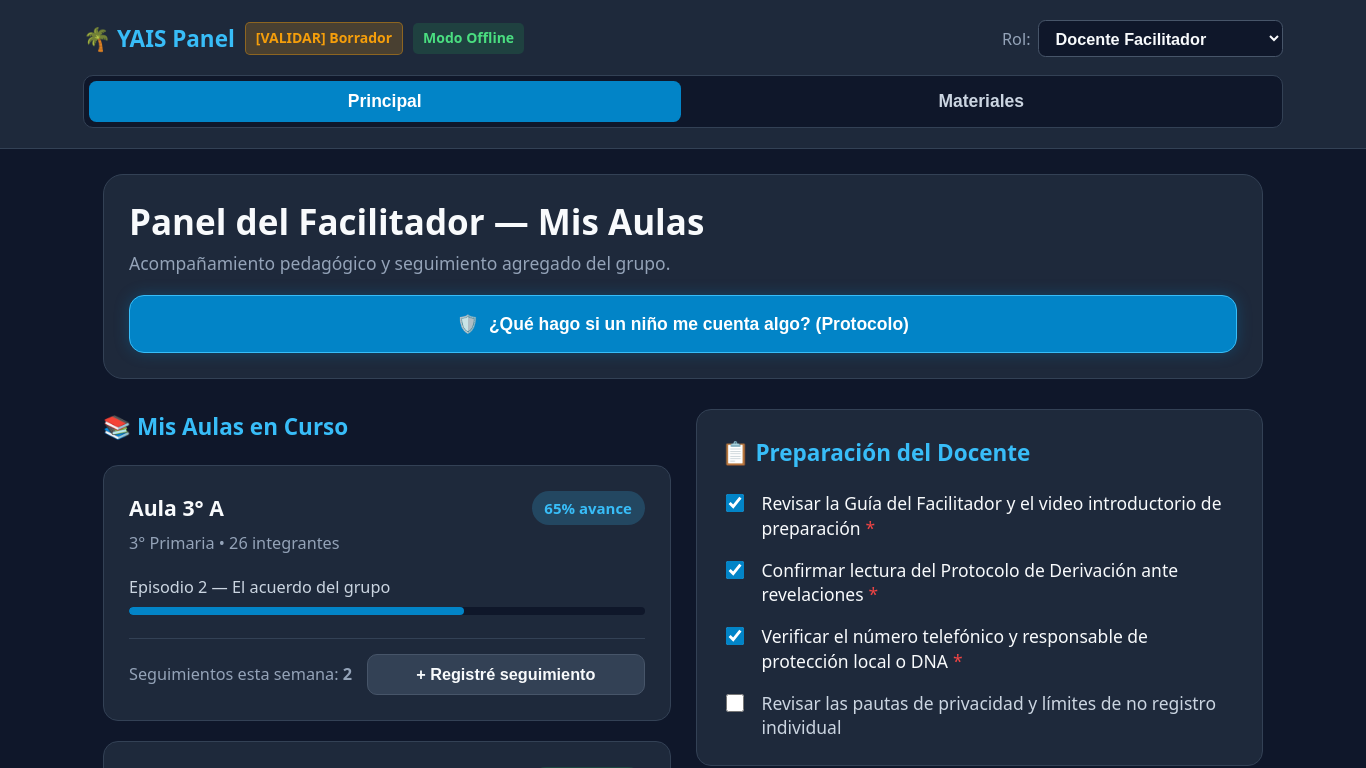
Test: PanelShell — Panel del Facilitador (SPEC-002) › increments weekly follow-up count when clicking '+ Registré seguimiento'
Expected: the text "Seguimientos esta semana: 2" is shown, [129,661,352,687]
Step 1. Click the button with aria-label "Registrar seguimiento para Aula 3° A" → click(506, 674), box [367,654,644,695]
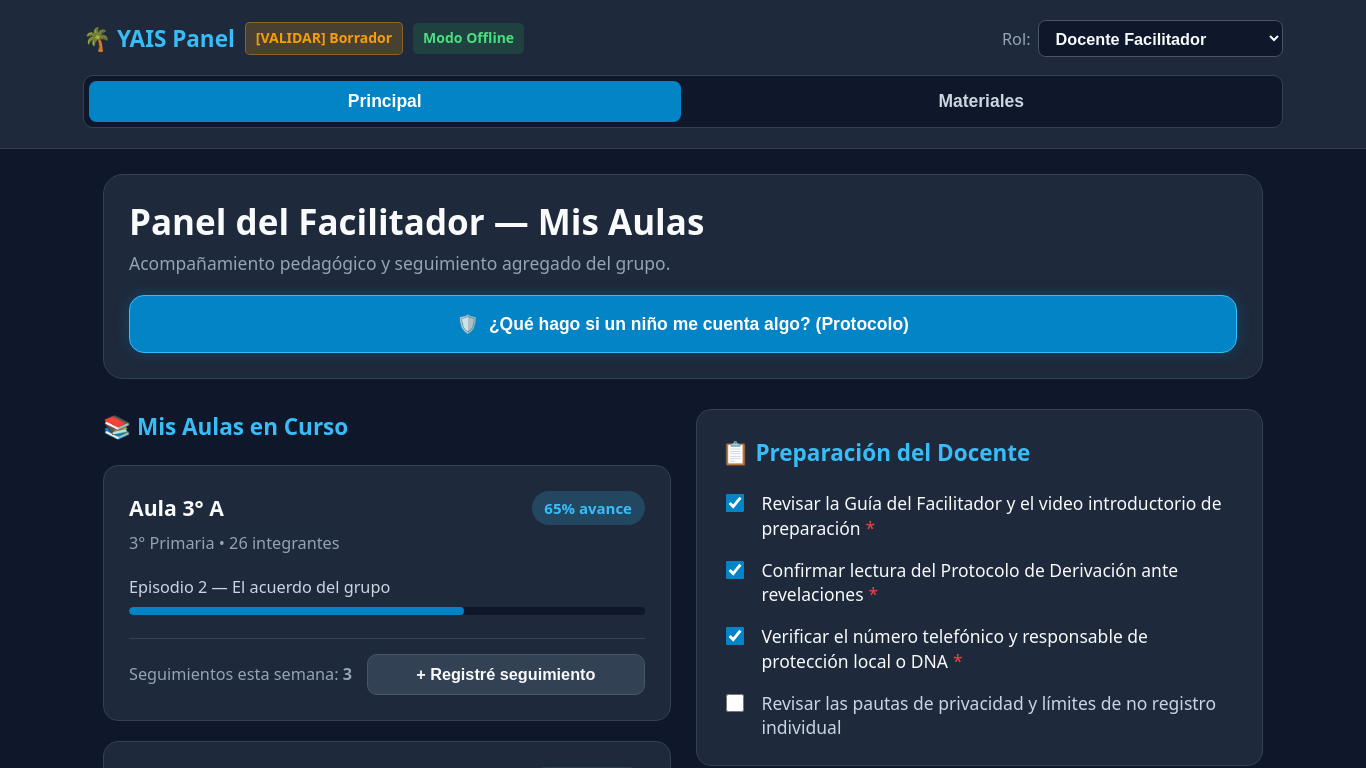
Expected: the text "3" is shown, [343,663,352,685]
